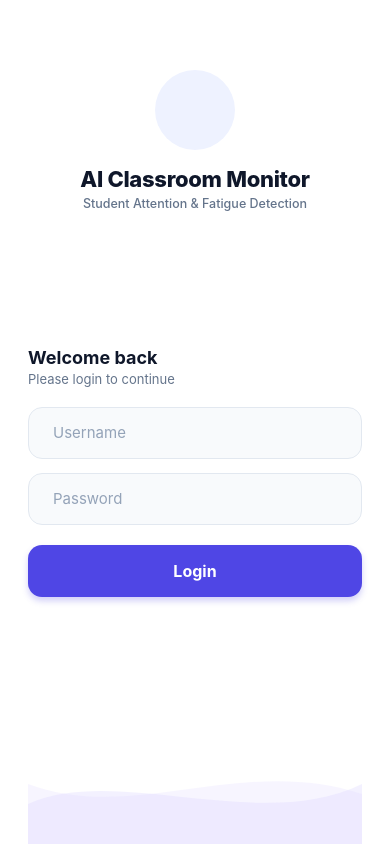
Phase 21: Mobile Login, Secure Storage & Offline States › failed login surfaces exact message: "Invalid username or password."
Type "baduser" into the field with placeholder "Username". click: (200, 432)
box: [53, 413, 347, 452]
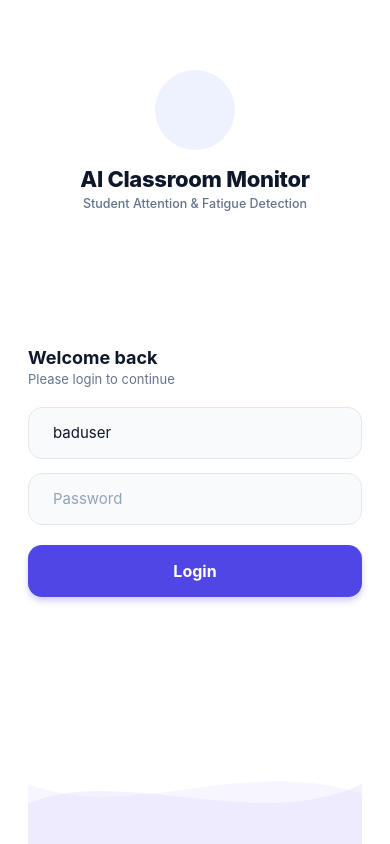
Type "badpass" into the password field with placeholder "Password". click: (194, 498)
box: [53, 479, 335, 518]
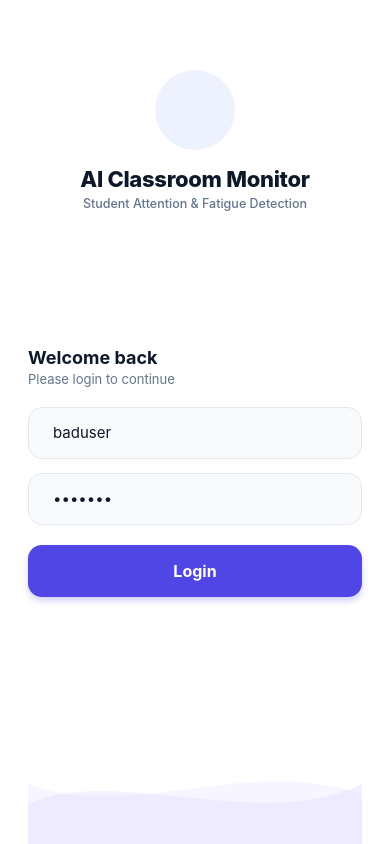
Click the button "Login". click: (195, 570)
box: [28, 544, 362, 596]
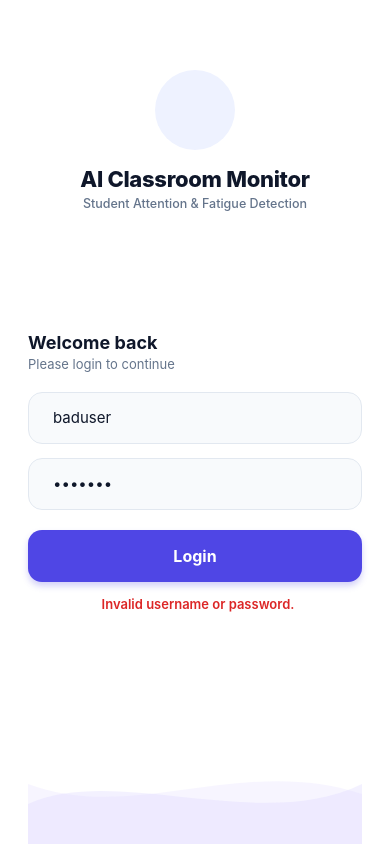
Check: the text "Invalid username or password." is shown, box [102, 596, 294, 612]
